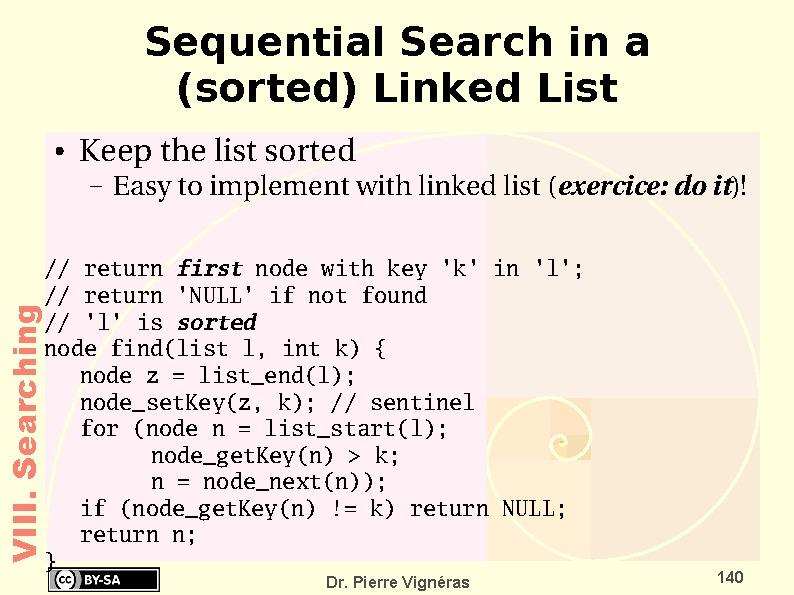paragraph: (45, 132, 776, 551)
title: (138, 9, 664, 125)
